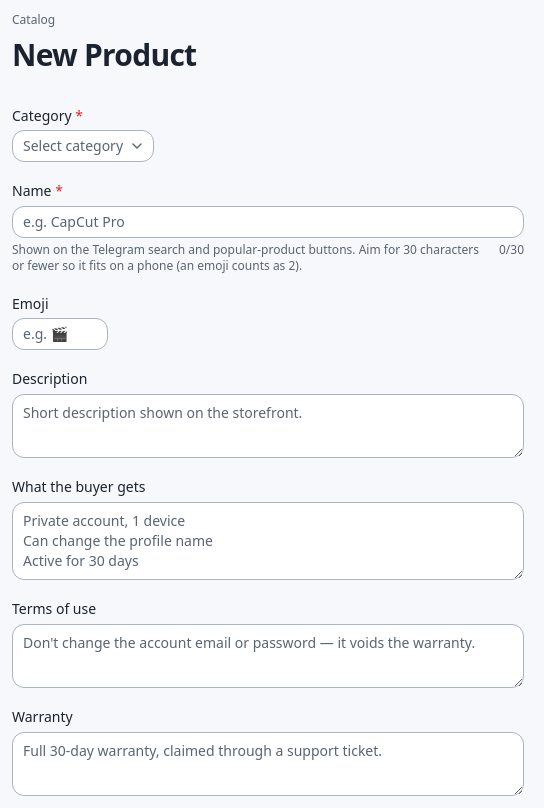
it: ProductCreatePage › cancelling inline category creation returns to the Select without submitting
The width and height of the screenshot is (544, 808).
Expected: the field with placeholder "e.g. CapCut Pro" is shown, [12,206,524,238]
Click the dropdown: (83, 146) [12,130,154,162]
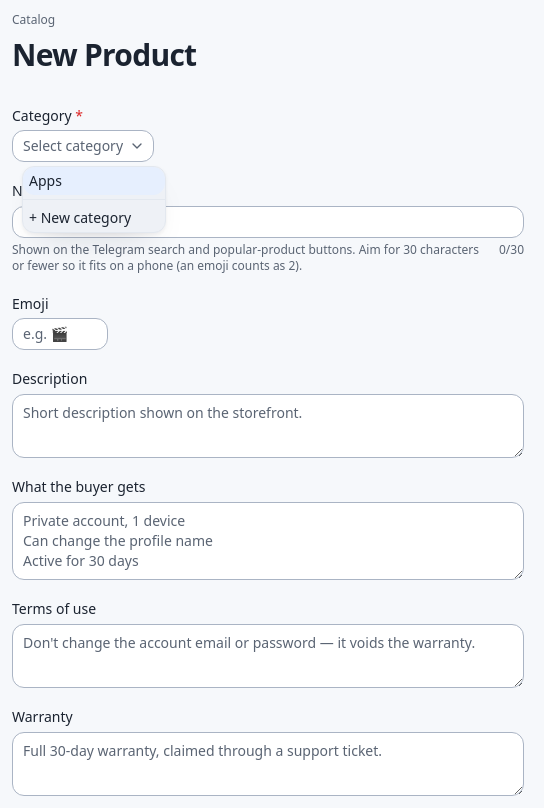
Expected: the option "+ New category" is shown
Click the option "+ New category": (80, 218) [29,208,131,227]
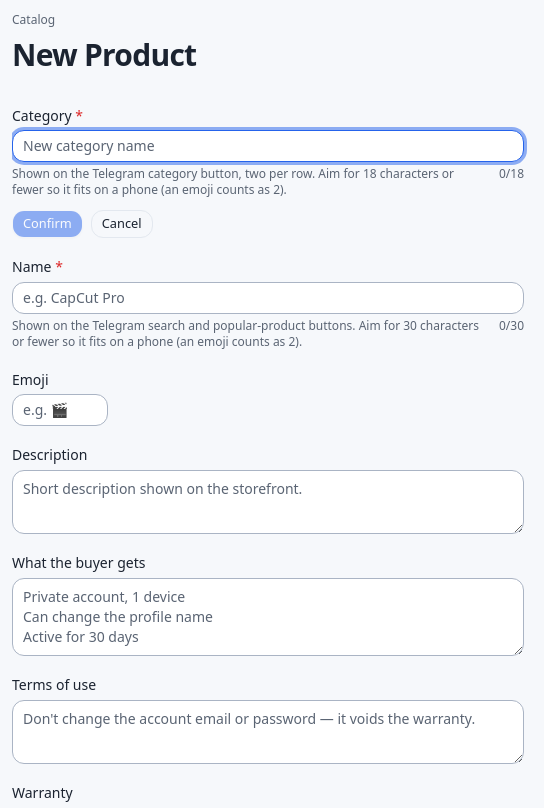
In the field with placeholder "New category name": (268, 146) [12,130,524,162], type "Streaming"
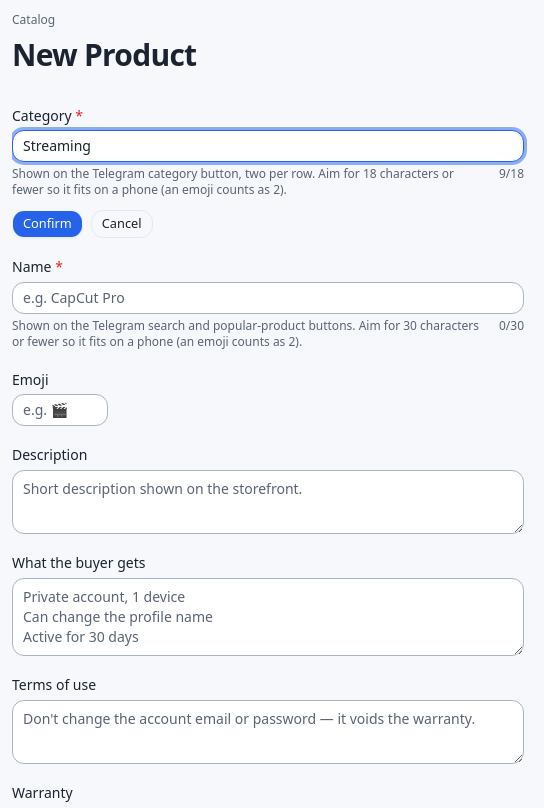
Click the button "Cancel": (122, 224) [91,210,152,238]
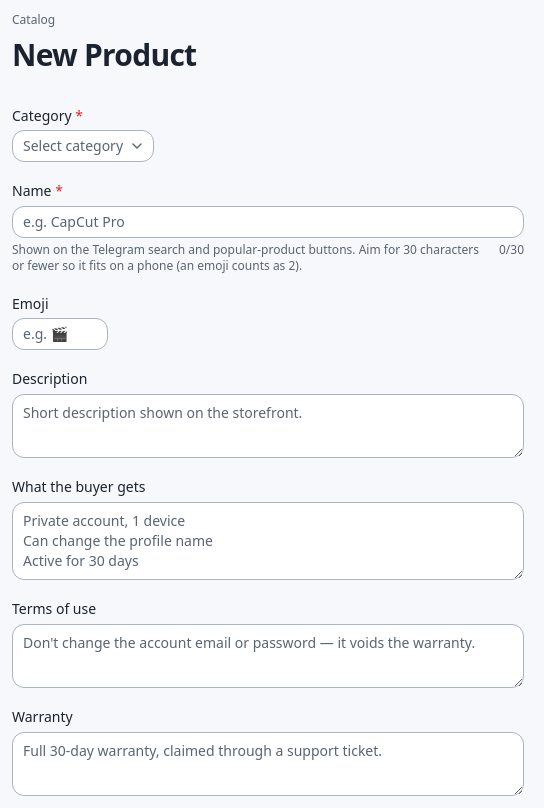
Expected: the field with placeholder "new category name" is not shown
Expected: the dropdown is shown, [12,130,154,162]
